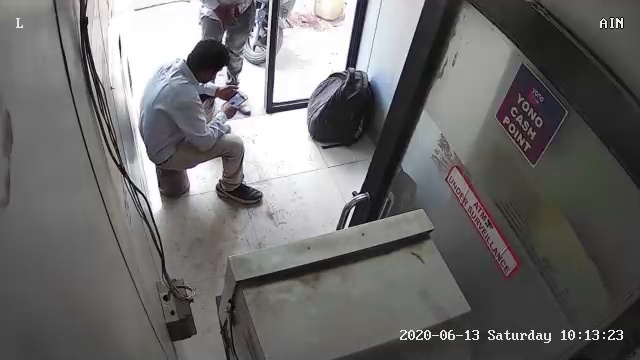open: (166, 2, 401, 137)
